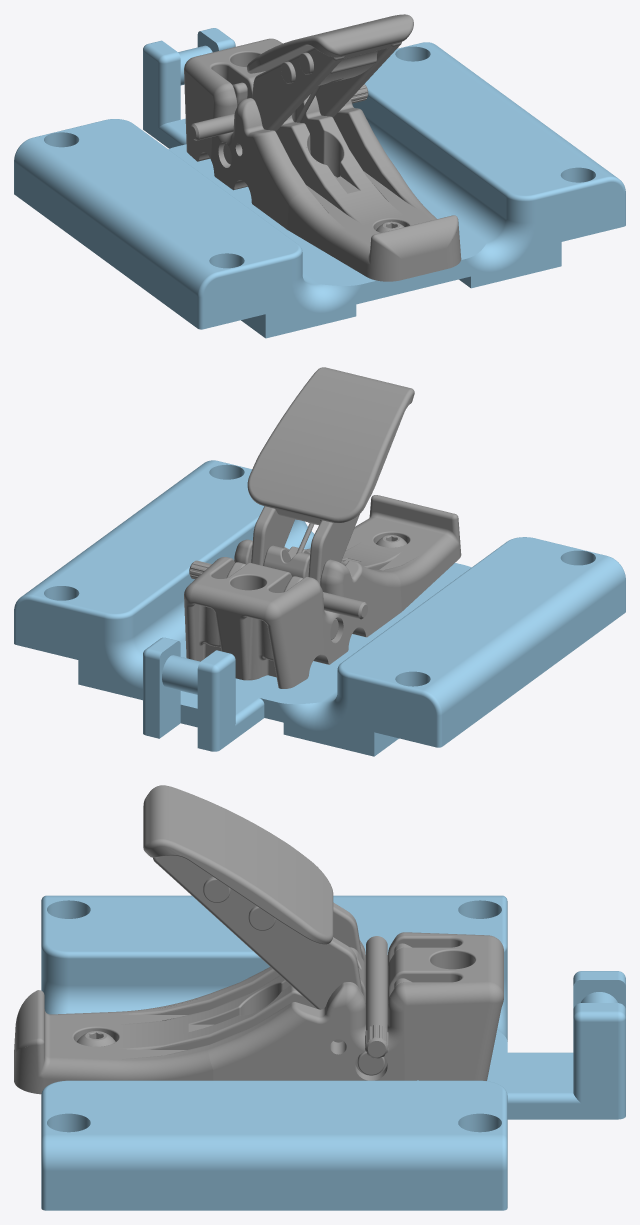
The model's file is summer_body.dae.
The picture shows the model from 3 angles, top to bottom: view 1: azimuth 30°, elevation 25°; view 2: azimuth 150°, elevation 25°; view 3: azimuth 270°, elevation 25°; orthographic projection. The views are drawn at different scales.
Parts seen in each view (by area): view 1: Part 1, BINDING_BLOCK_OLD_20181016, GDH1103, GDH1102, GDH1102_1, GDH1203; view 2: Part 1, BINDING_BLOCK_OLD_20181016, GDH1103, GDH1102, GDH1102_1, GDH1203; view 3: Part 1, BINDING_BLOCK_OLD_20181016, GDH1103, GDH1102_1, GDH1203, GDH1102.
Boxes of the visible parts, box(x1,y1,x2,y2) form: Part 1: box(14, 28, 625, 338); BINDING_BLOCK_OLD_20181016: box(184, 38, 461, 281); GDH1103: box(247, 14, 413, 85); GDH1102: box(232, 47, 344, 131); GDH1102_1: box(315, 42, 401, 117); GDH1203: box(189, 84, 368, 140); Part 1: box(14, 460, 625, 756); BINDING_BLOCK_OLD_20181016: box(184, 495, 461, 688); GDH1103: box(247, 367, 414, 525); GDH1102: box(284, 514, 359, 591); GDH1102_1: box(226, 506, 294, 578); GDH1203: box(189, 560, 367, 619); Part 1: box(41, 895, 625, 1210); BINDING_BLOCK_OLD_20181016: box(14, 932, 503, 1094); GDH1103: box(143, 785, 333, 944); GDH1102_1: box(153, 855, 411, 1042); GDH1203: box(365, 936, 388, 1058); GDH1102: box(333, 902, 411, 958).
Bounding box in the file's own units: 0.112 × 0.1116 × 0.0601.
